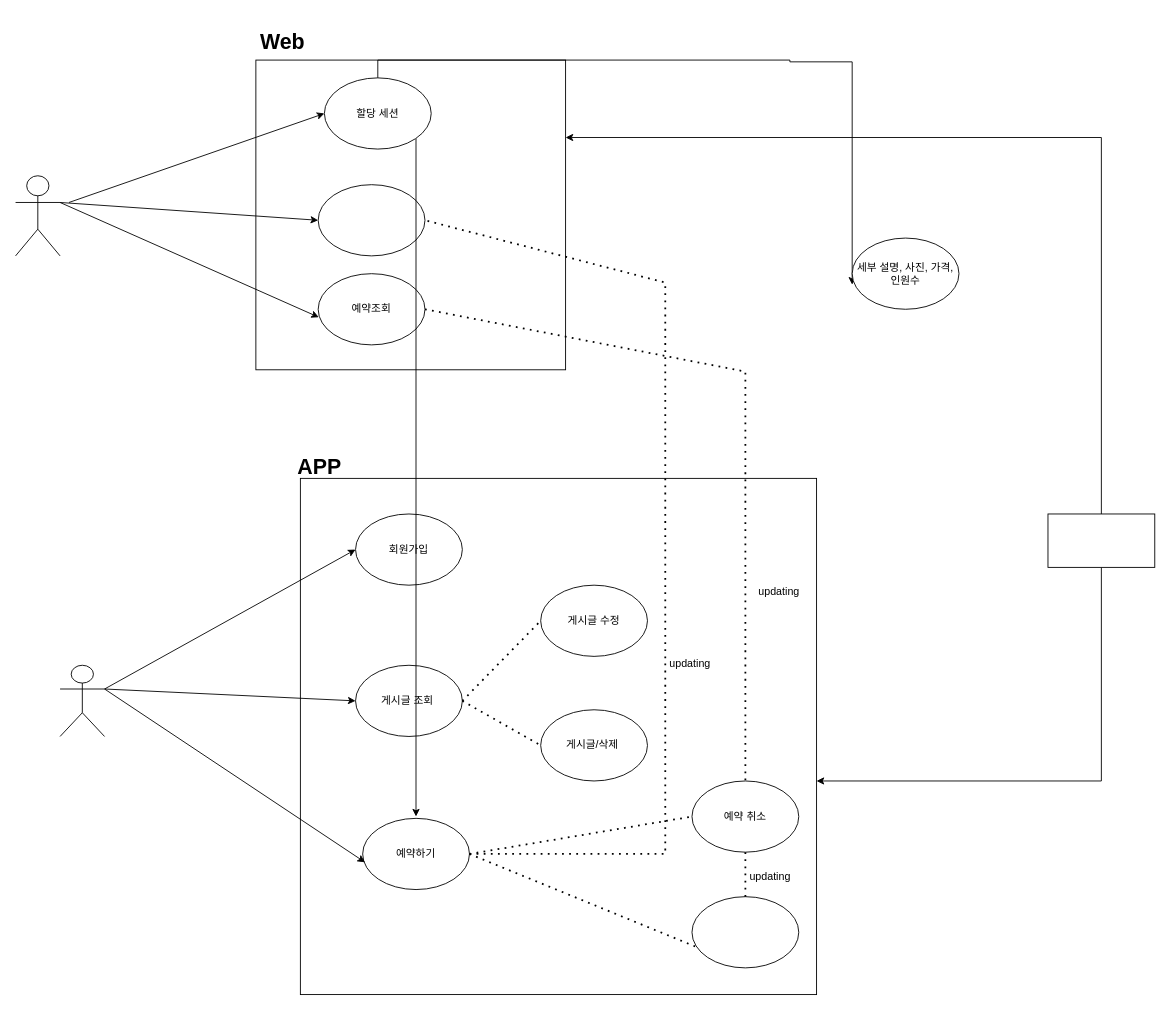
The diagram is 1170 pixels wide and 1010 high, and some of its shapes have lost their labels. Here are the shapes that lost their labels. From the top down, the centre of each, then its label:
At point (37, 215): "Manger".
At point (371, 220): "예약 등록".
At point (1101, 540): "DB".
At point (82, 700): "User".
At point (745, 932): "예약변경".
